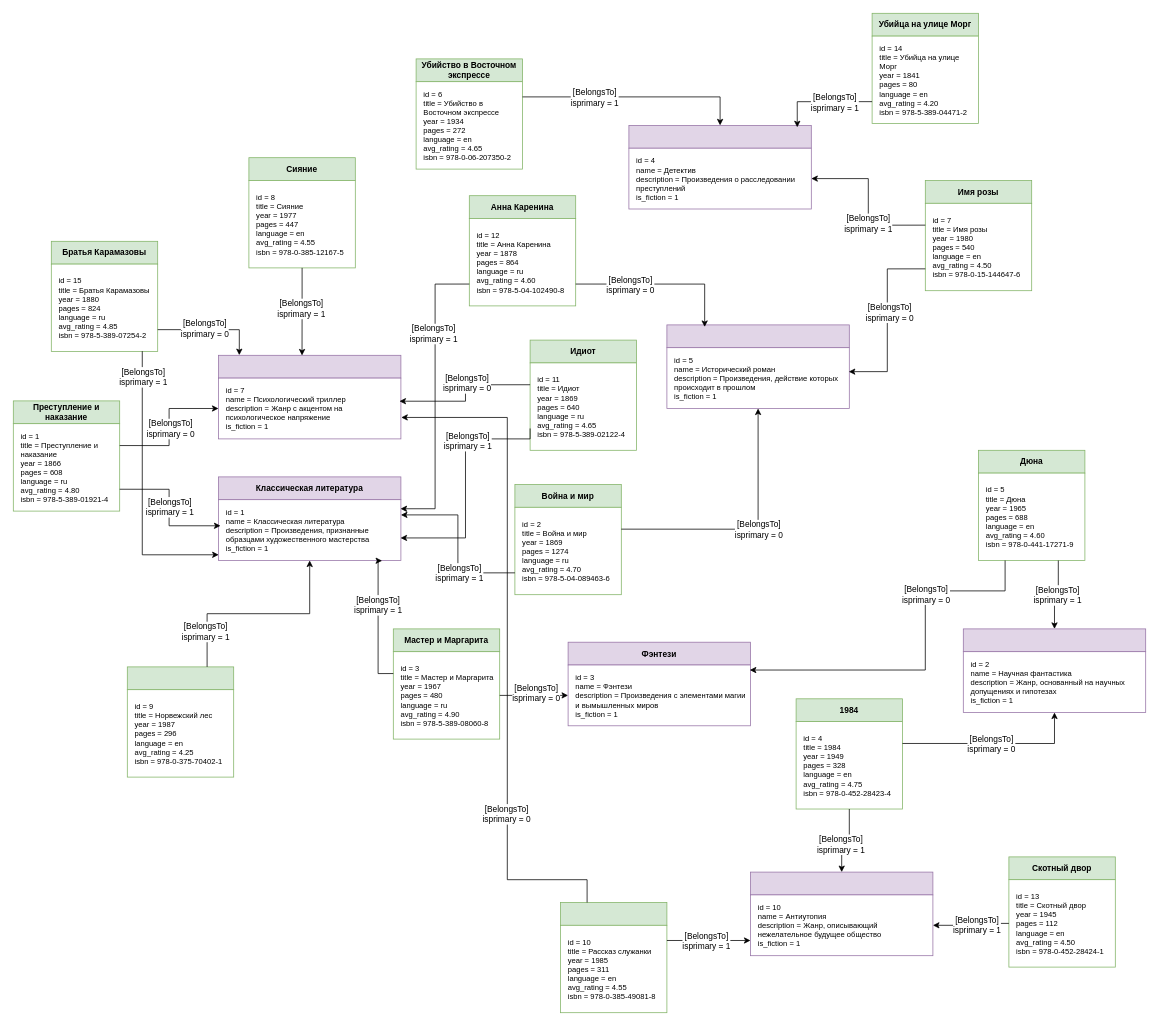
Image size: 1159x1026. Some labels were removed from this diagram. Each missing label, with the box of its shape:
Антиутопия: (750, 871, 933, 895)
Детектив: (628, 125, 811, 148)
Исторический роман: (666, 324, 849, 348)
Научная фантастика: (963, 628, 1146, 652)
Норвежский лес: (127, 666, 234, 690)
Психологический триллер: (218, 355, 401, 378)
Рассказ служанки: (560, 902, 667, 925)
